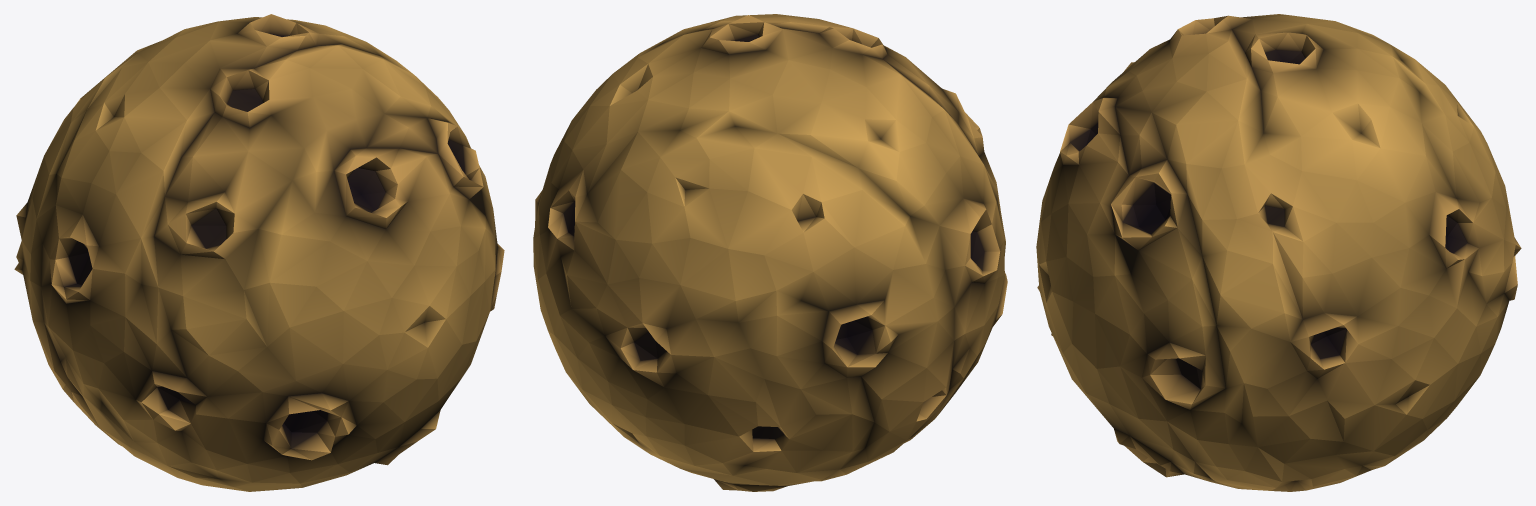
The model's file is moon39.fbx.
The picture shows the model from 3 angles, left to right: view 1: azimuth 30°, elevation 25°; view 2: azimuth 150°, elevation 25°; view 3: azimuth 270°, elevation 25°; orthographic projection.
Parts seen in each view (by area): view 1: attribblur1; view 2: attribblur1; view 3: attribblur1.
Boxes of the visible parts, x1,y1,x2,y2 form: attribblur1: [14, 14, 504, 491]; attribblur1: [533, 14, 1007, 491]; attribblur1: [1036, 14, 1521, 491].
Size of the model in its own units: 0.9406 by 0.9421 by 0.9353.
